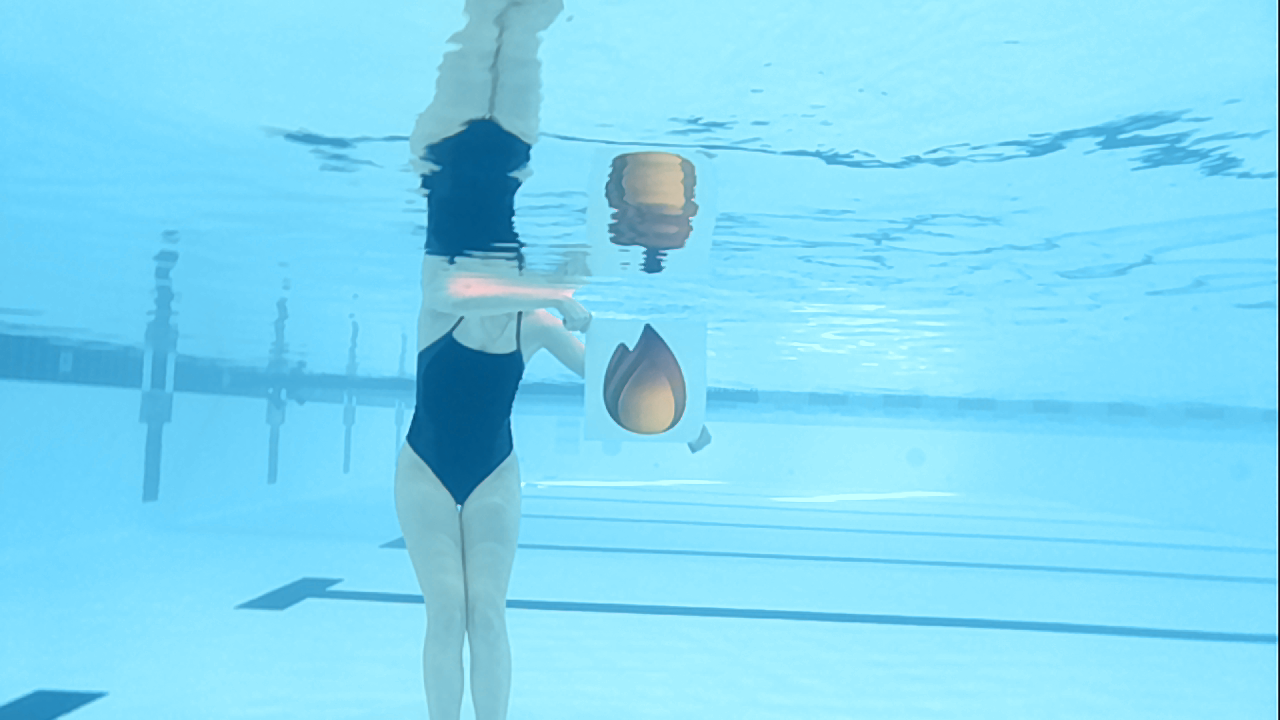fire: (584, 316, 705, 441)
